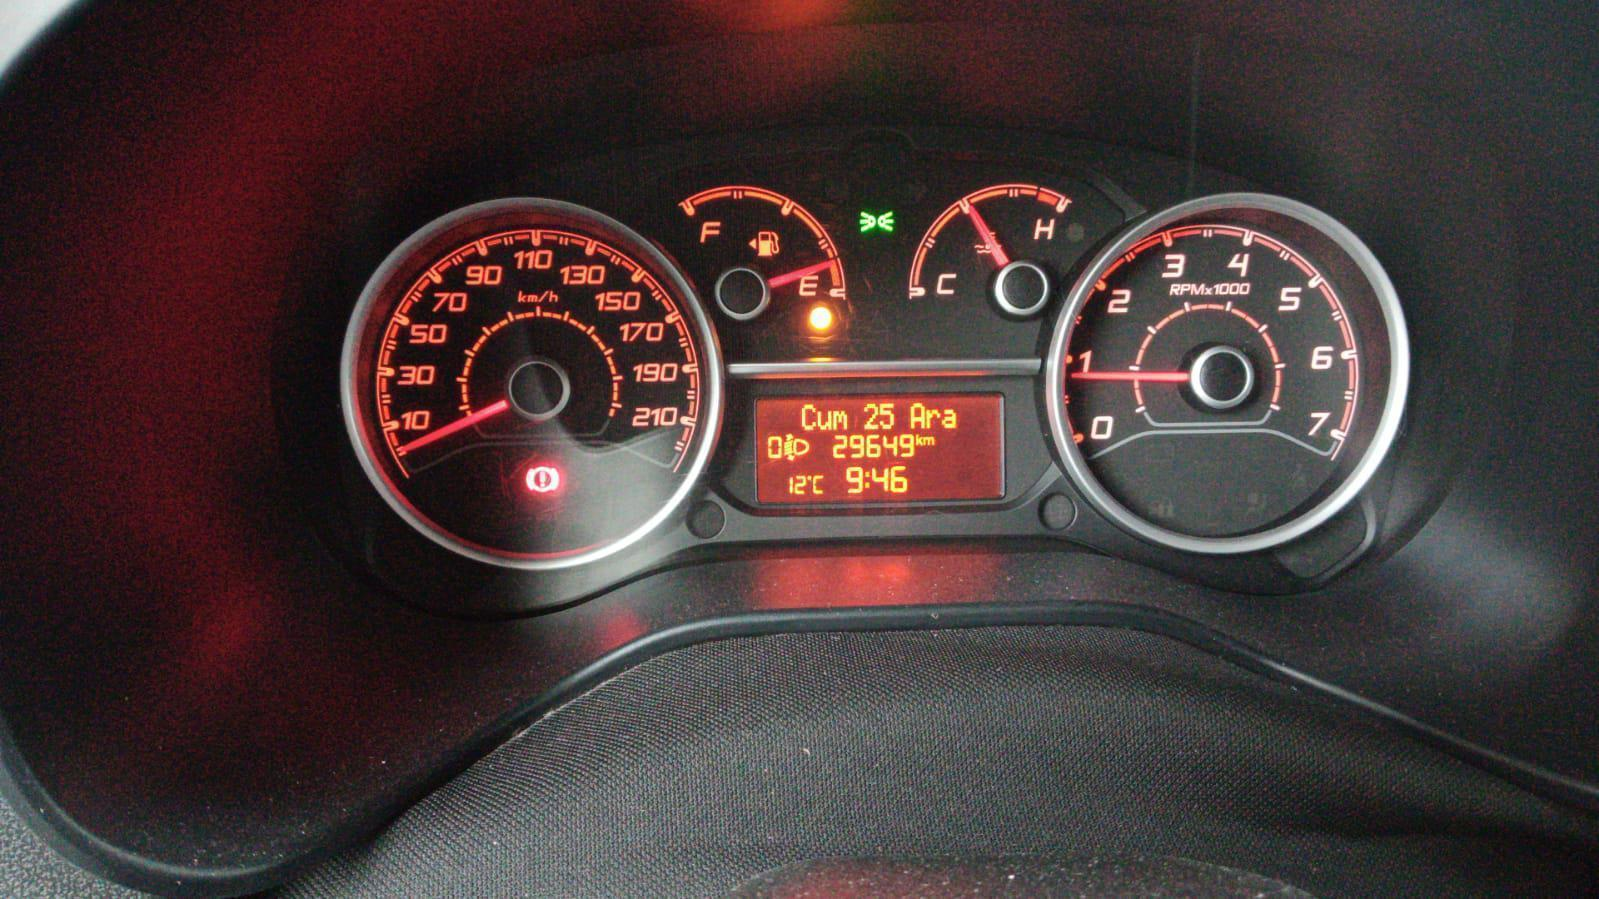0: (765, 434, 783, 458)
1: (787, 475, 793, 495)
2: (861, 401, 879, 431), (831, 432, 847, 459), (794, 474, 805, 496)
4: (870, 465, 888, 492), (882, 432, 899, 457)
5: (879, 402, 897, 430)
6: (888, 465, 909, 494), (865, 432, 881, 459)
9: (845, 464, 864, 495), (847, 432, 864, 459), (898, 432, 915, 458)
X: (907, 401, 925, 430), (800, 403, 817, 431), (832, 408, 849, 432), (941, 406, 958, 429), (925, 407, 940, 430), (817, 408, 832, 431), (812, 474, 826, 495), (923, 435, 935, 446), (914, 432, 923, 446), (864, 470, 870, 490)
odometer: (752, 390, 1006, 506)
